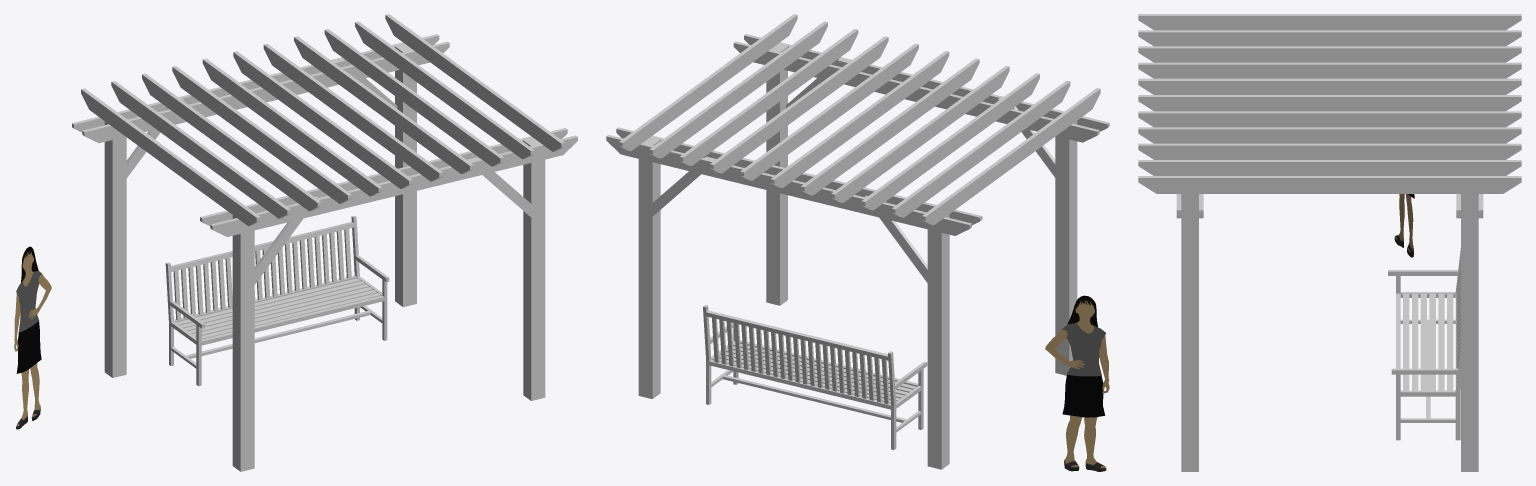
3 renders of one model, left to right at view 1: azimuth 30°, elevation 25°; view 2: azimuth 150°, elevation 25°; view 3: azimuth 270°, elevation 25°, orthographic. The views are drawn at different scales.
Parts seen in each view (by area): view 1: Layer0_001, Group_001, Sophie_001; view 2: Layer0_001, Group_001, Sophie_001; view 3: Layer0_001, Group_001, Sophie_001.
Part boxes in pixels (left/top/right/bottom): Layer0_001: left=72, top=14, right=577, bottom=471; Group_001: left=165, top=215, right=389, bottom=386; Sophie_001: left=14, top=246, right=51, bottom=429; Layer0_001: left=606, top=14, right=1109, bottom=469; Group_001: left=703, top=305, right=927, bottom=449; Sophie_001: left=1045, top=295, right=1109, bottom=471; Layer0_001: left=1138, top=14, right=1521, bottom=471; Group_001: left=1388, top=248, right=1460, bottom=440; Sophie_001: left=1394, top=194, right=1414, bottom=257.
Size of the model in its own units: 183 by 102 by 120.
